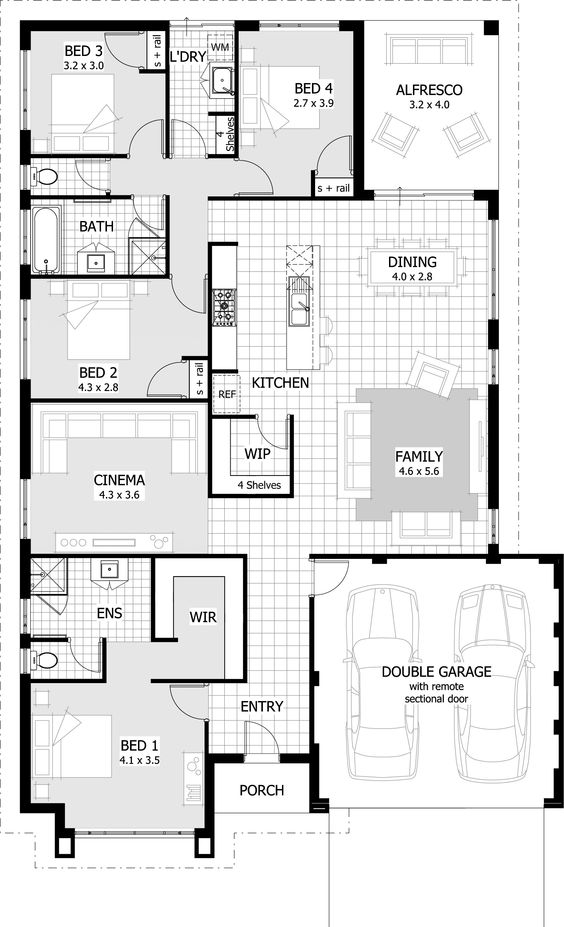door: (126, 115, 165, 154), (167, 115, 206, 154), (239, 157, 278, 196), (314, 132, 353, 171), (71, 157, 110, 196), (143, 358, 179, 398), (253, 413, 290, 451), (314, 558, 351, 596), (241, 715, 278, 753), (166, 683, 203, 721), (65, 639, 102, 677), (169, 280, 207, 312), (130, 198, 166, 230)
room: (19, 554, 247, 682), (21, 679, 209, 812), (19, 275, 212, 402), (234, 20, 364, 200), (20, 19, 170, 156)
